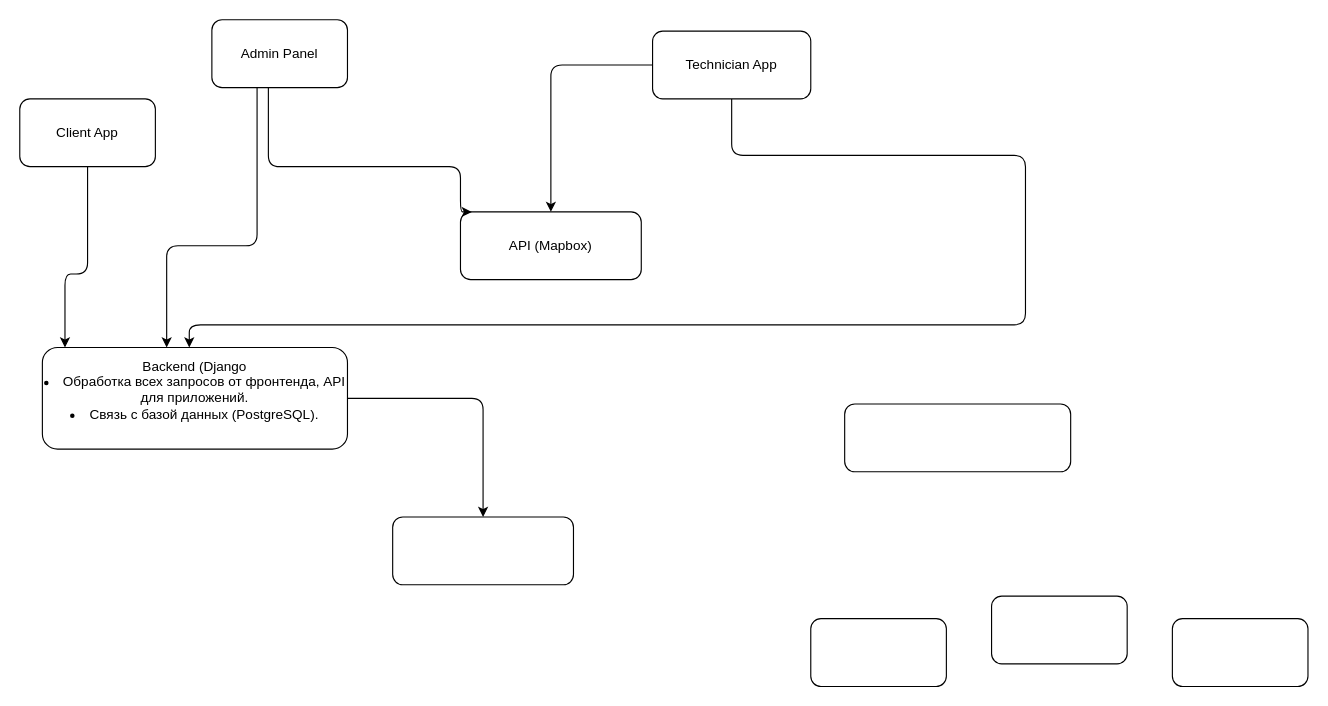
Image size: 1328x706. Some labels were removed from this diagram. Each missing label, with the centre of its shape:
"PostgreSQL Database" belongs at pixel 482 550.
"Technician App (React Native)" belongs at pixel 957 437.
